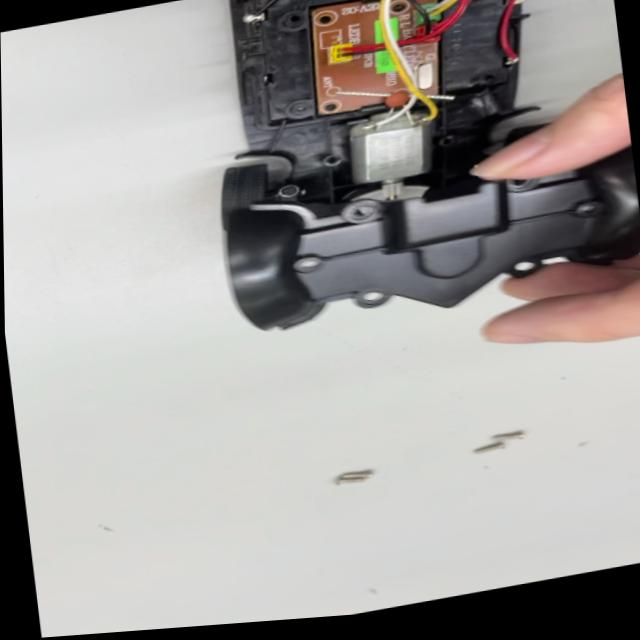motor_cover: (210, 138, 640, 338)
